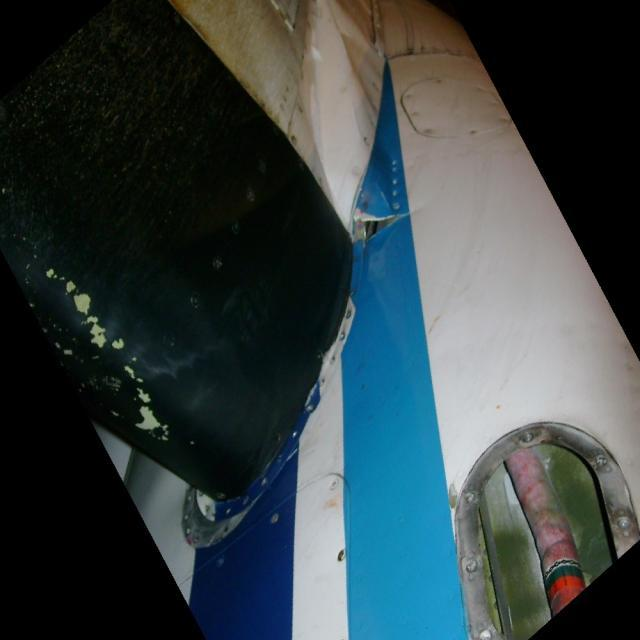crack: (349, 203, 417, 246)
